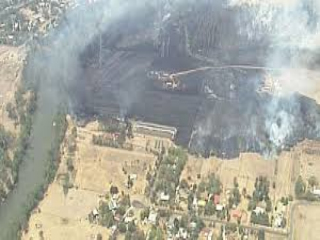smoke: (249, 83, 306, 152)
